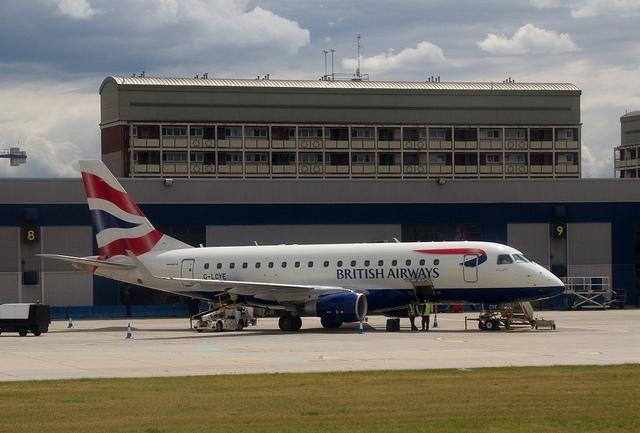truck: (0, 300, 50, 336), (195, 304, 258, 331)
